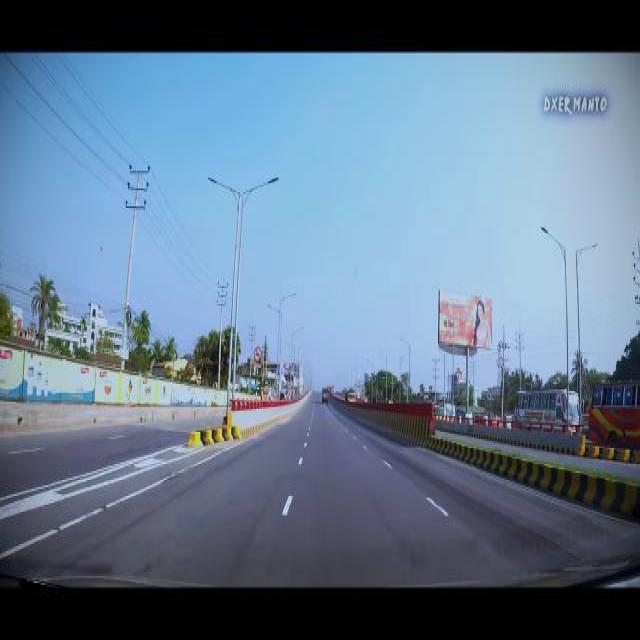bus: (587, 375, 639, 443), (512, 386, 582, 432), (445, 402, 455, 419)
truck: (320, 387, 328, 402)
